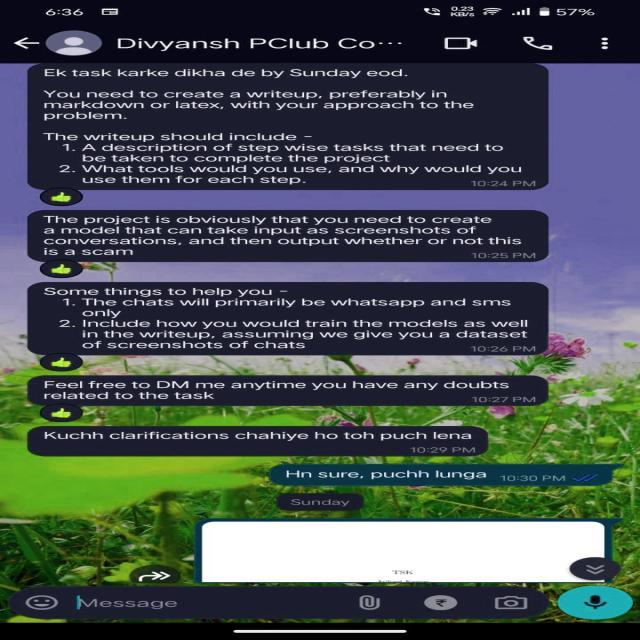scam: (39, 66, 532, 188), (38, 282, 544, 350), (38, 211, 544, 261), (36, 377, 518, 403), (28, 426, 480, 452)
